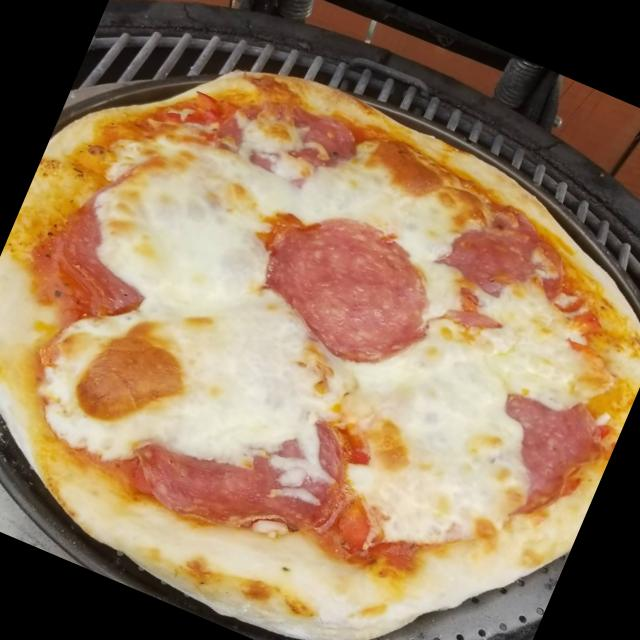pepperoni: (232, 184, 456, 386), (134, 370, 362, 552), (208, 84, 358, 210), (484, 376, 612, 511), (430, 208, 548, 312), (54, 178, 136, 262)
pizza: (0, 70, 640, 640)
